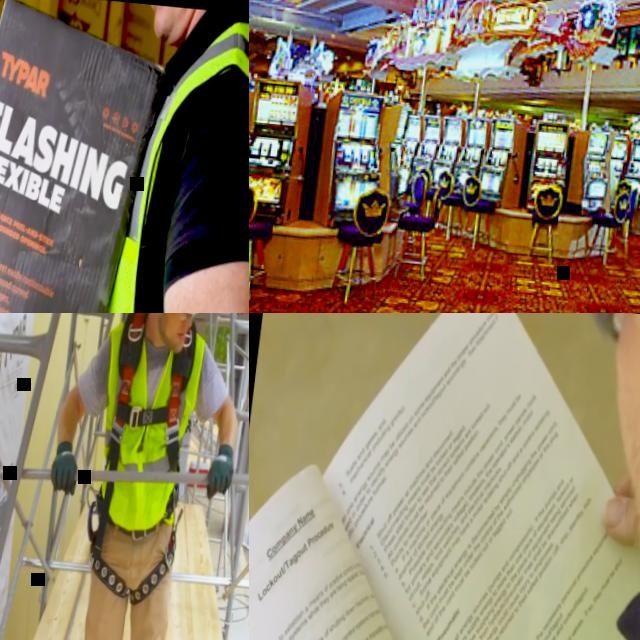NO-Mask: (577, 313, 640, 640), (144, 4, 195, 47), (163, 318, 188, 351)
NO-Safety Vest: (89, 323, 207, 531)
Person: (0, 0, 249, 313), (22, 313, 249, 640), (515, 313, 640, 640)
Safety Vest: (59, 7, 249, 313)
